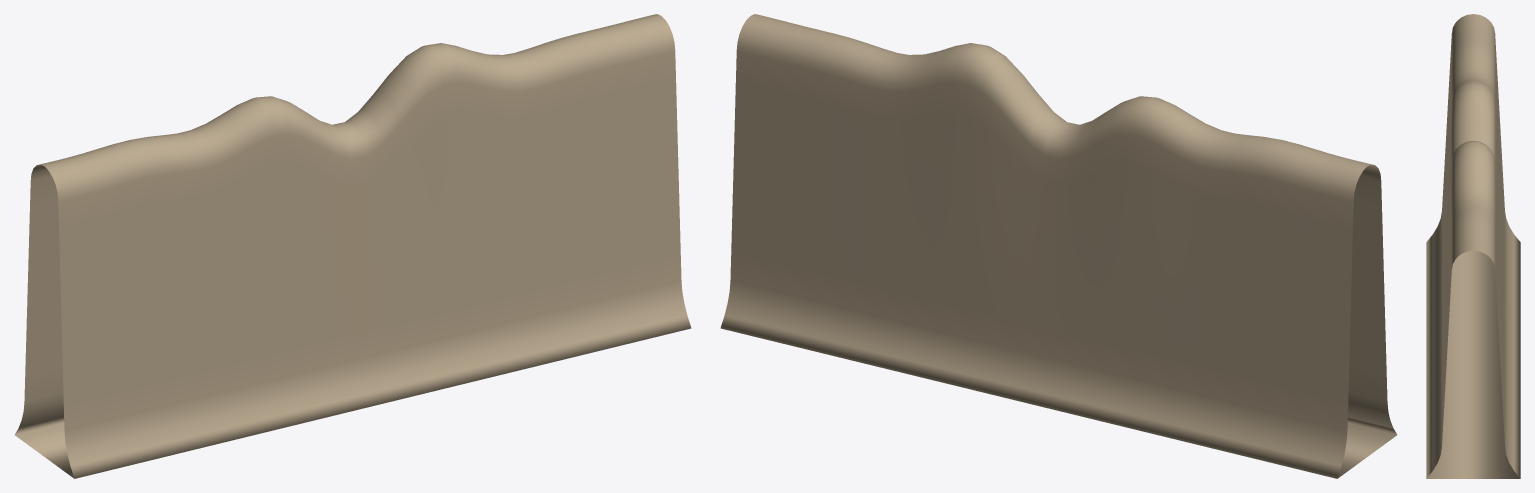
File: KFB_Wall_straight_long.r3.glb
The picture shows the model from 3 angles, left to right: view 1: azimuth 30°, elevation 25°; view 2: azimuth 150°, elevation 25°; view 3: azimuth 270°, elevation 25°; orthographic projection. The views are drawn at different scales.
Parts seen in each view (by area): view 1: KFB_Wall_straight_long; view 2: KFB_Wall_straight_long; view 3: KFB_Wall_straight_long.
Part boxes in pixels (x1,y1,x2,y2): KFB_Wall_straight_long: (14,14,691,478); KFB_Wall_straight_long: (720,14,1397,478); KFB_Wall_straight_long: (1426,14,1520,478).
Bounding box in the file's own units: 8 × 3.91 × 1.35.
